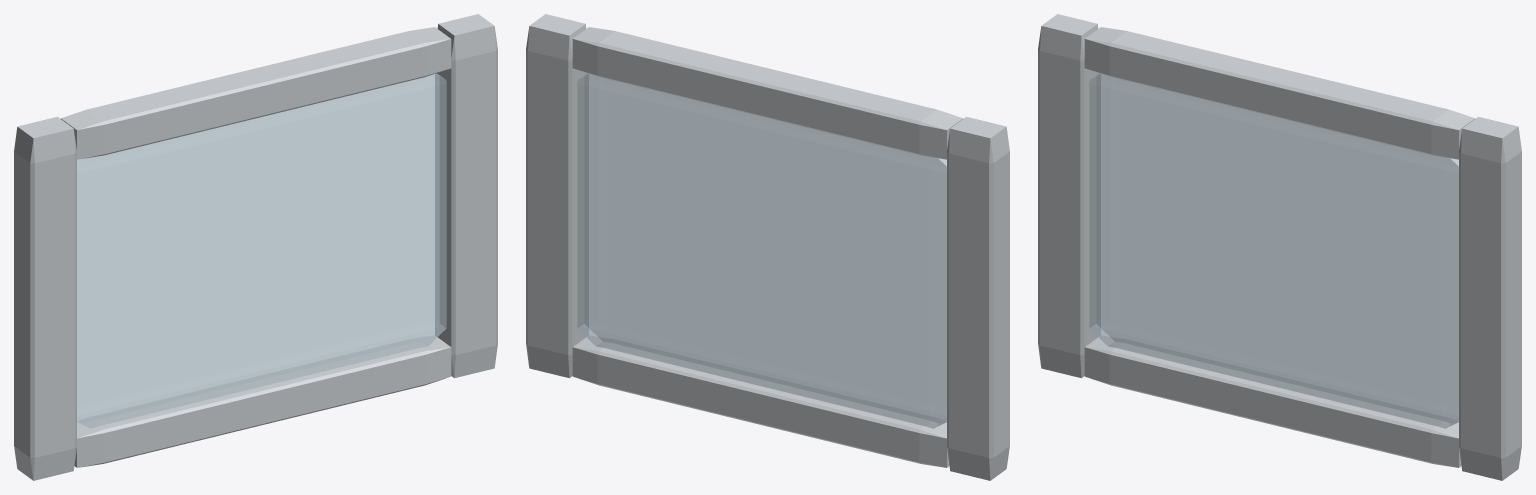
Rendered from b21_window_sliding_2m.glb.
The picture shows the model from 3 angles, left to right: view 1: azimuth 30°, elevation 25°; view 2: azimuth 150°, elevation 25°; view 3: azimuth 330°, elevation 25°; orthographic projection.
Visible parts, largest first — view 1: b21_window_sliding_2m; view 2: b21_window_sliding_2m; view 3: b21_window_sliding_2m.
Boxes of the visible parts, x1,y1,x2,y2 form: b21_window_sliding_2m: [14, 14, 497, 480]; b21_window_sliding_2m: [526, 14, 1009, 480]; b21_window_sliding_2m: [1038, 14, 1521, 480].
Size of the model in its own units: 2 by 1.4 by 0.14.
